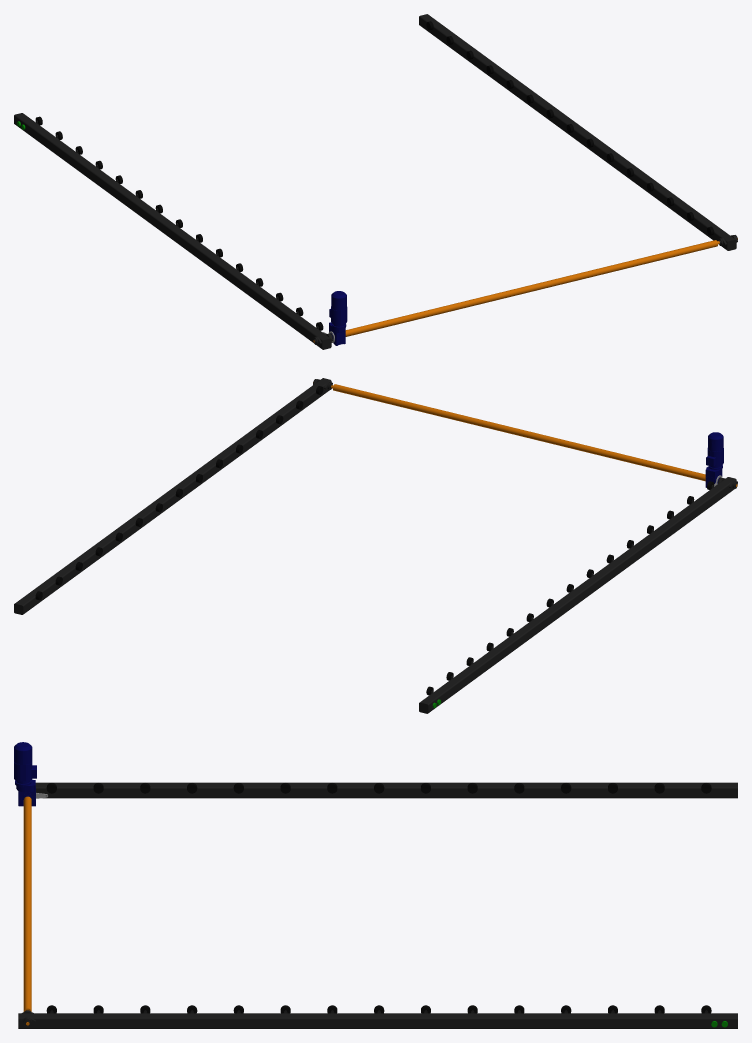
The model's file is SHELF-B-3.obj.
The picture shows the model from 3 angles, top to bottom: view 1: azimuth 30°, elevation 25°; view 2: azimuth 150°, elevation 25°; view 3: azimuth 270°, elevation 25°; orthographic projection. The views are drawn at different scales.
Parts seen in each view (by area): view 1: P072455.021; view 2: P072455.021; view 3: P072455.021.
Part boxes in pixels (x1=…): P072455.021: x1=14, y1=14, x2=737, y2=349; P072455.021: x1=14, y1=378, x2=737, y2=713; P072455.021: x1=14, y1=742, x2=737, y2=1028.
Bounding box in the file's own units: 5509 × 634 × 6999.
